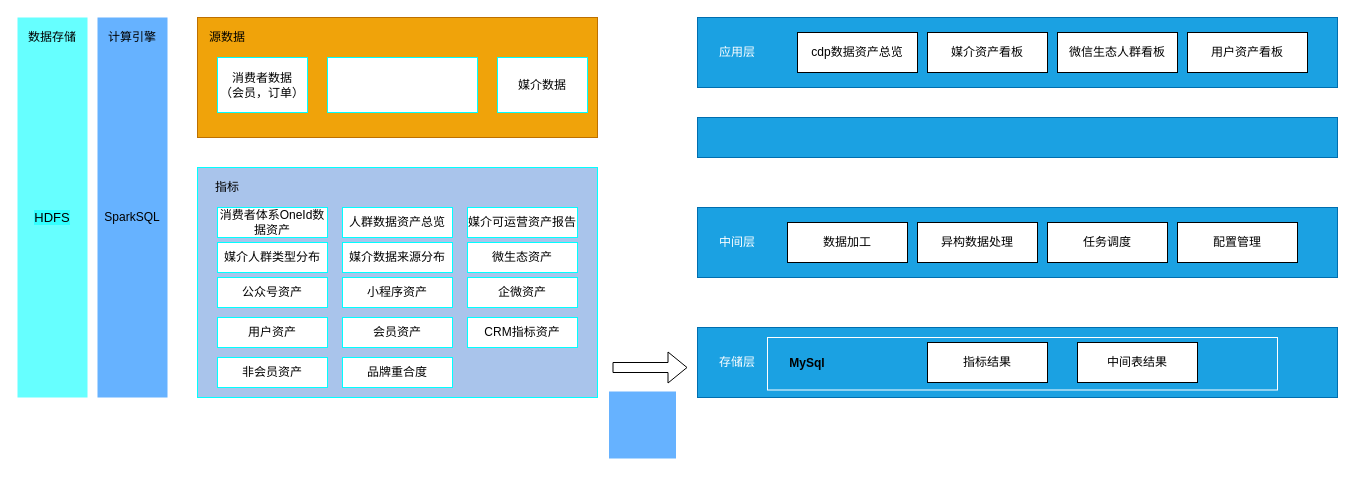
Some shapes in this 1355 by 479 pixel diagram are drawn without their labels. Here are the shapes that lost their labels. From the top down, the box of each, then its label:
(326, 56, 478, 112): 微生态数据 （公众号，小程序，企微）
(696, 116, 1338, 158): Open API
(606, 388, 678, 461): 同步工具 DataX
